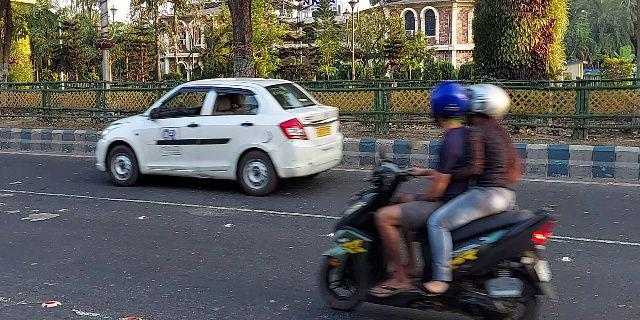Car: (90, 75, 345, 194)
Motorbike: (316, 83, 560, 320)
